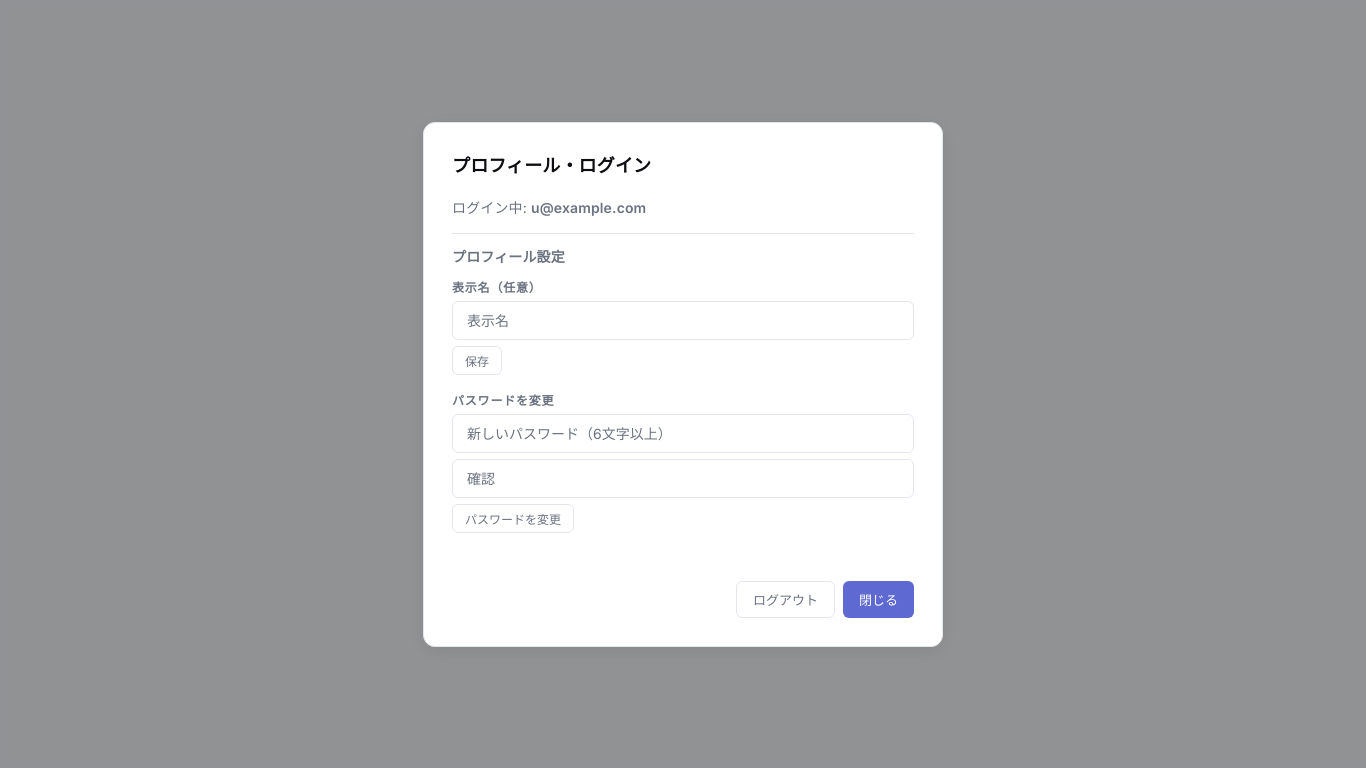
Test: ProfileModal › hides confirmation when いいえ is clicked
Click the button "ログアウト" at (786, 599), box [736,580,835,618]
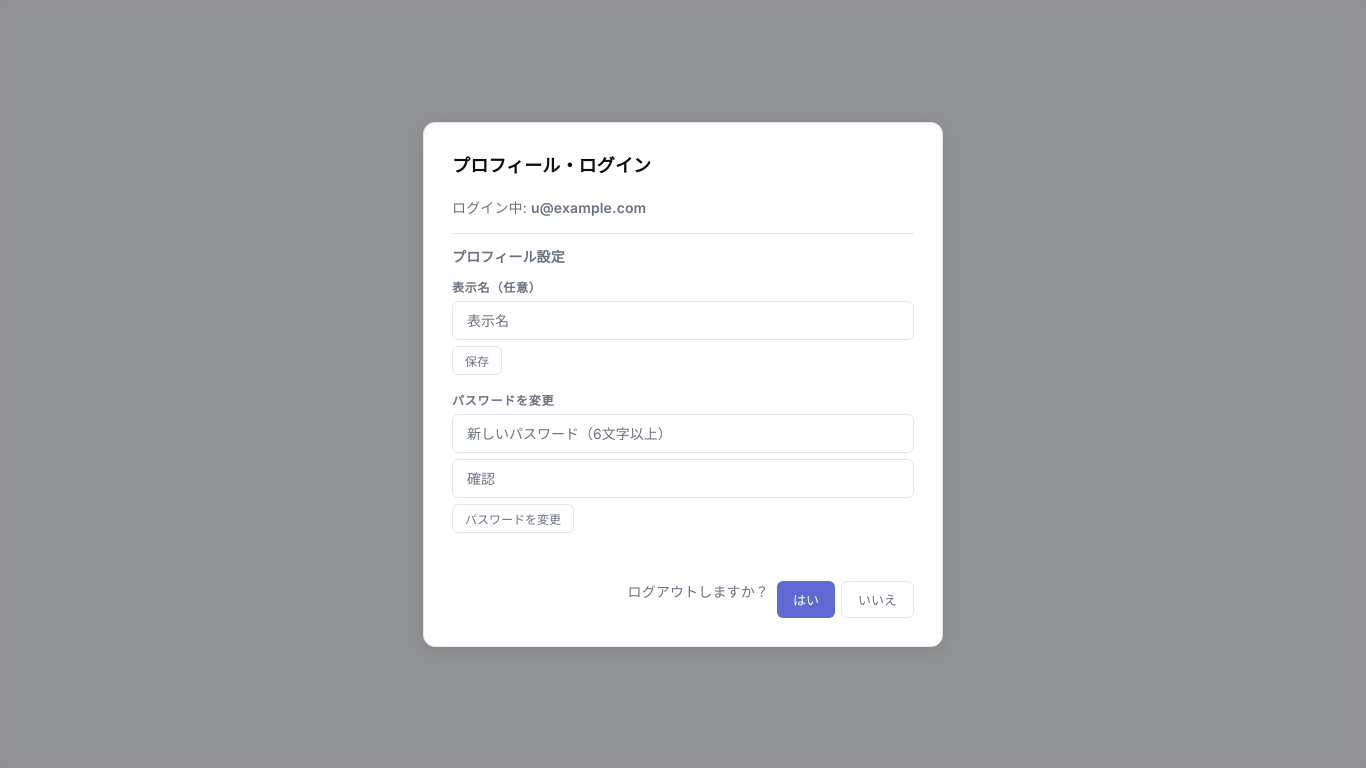
Click the button "いいえ" at (878, 599), box [841,580,914,618]
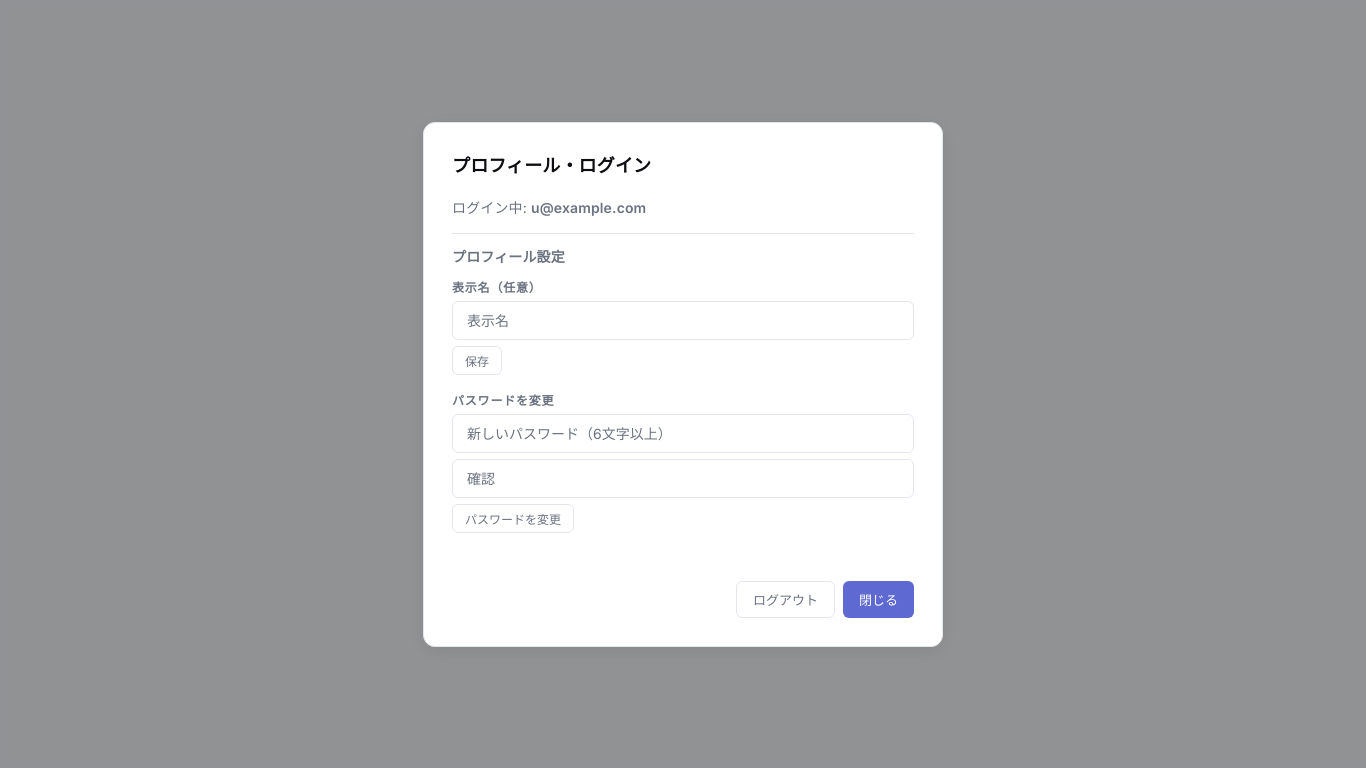
expect the text "ログアウトしますか？" is gone: met
expect the button "ログアウト" is shown: met, box [736,580,835,618]
expect the button "閉じる" is shown: met, box [843,580,914,618]
